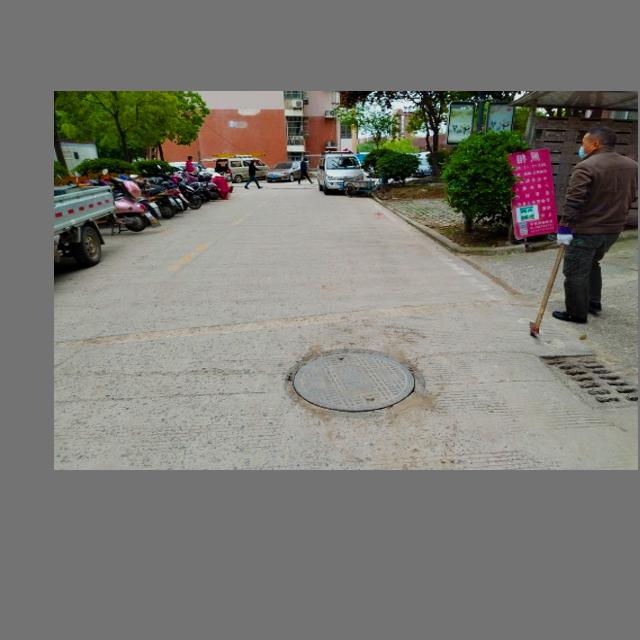good: (285, 348, 425, 416)
